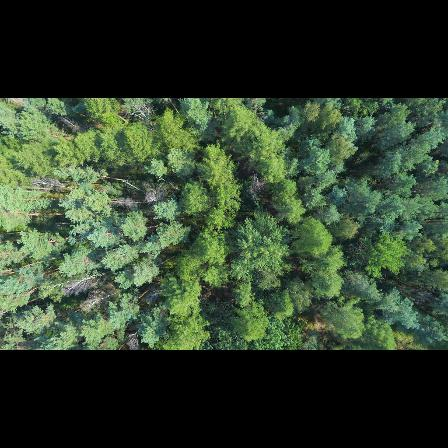Dead: (78, 288, 118, 312), (60, 273, 101, 295), (131, 103, 157, 134), (31, 175, 66, 195), (245, 171, 267, 200), (54, 116, 83, 138), (107, 193, 141, 211), (144, 183, 164, 211), (140, 287, 165, 305), (121, 330, 143, 350)
